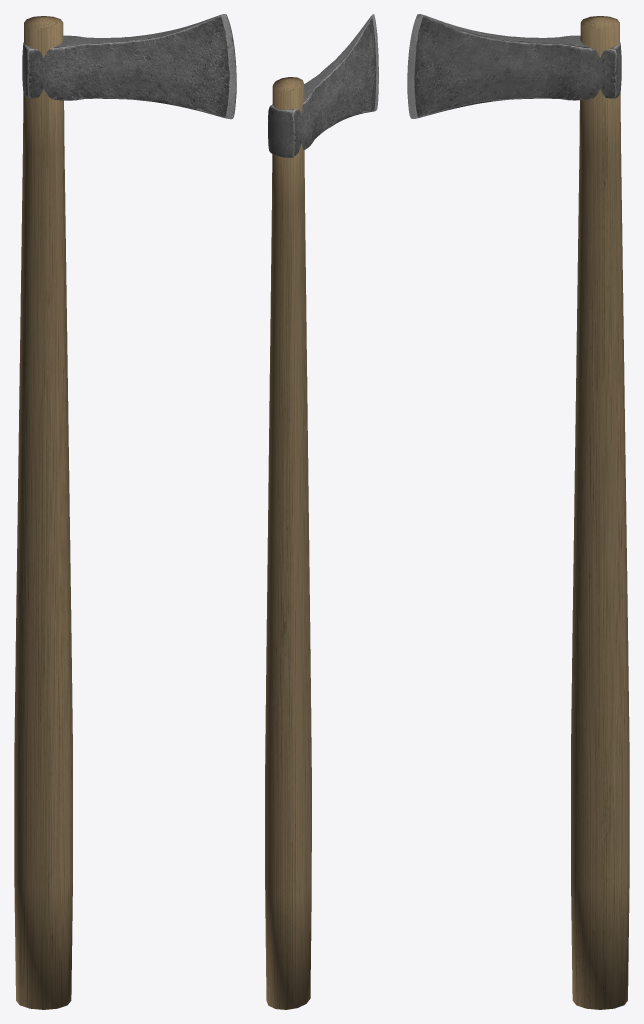
The model's file is axe_peasant_p1_w1.glb.
The picture shows the model from 3 angles, left to right: view 1: azimuth 90°, elevation 25°; view 2: azimuth 150°, elevation 25°; view 3: azimuth 270°, elevation 25°; orthographic projection. The views are drawn at different scales.
Visible parts, largest first — view 1: axe_peasant_p1_w1; view 2: axe_peasant_p1_w1; view 3: axe_peasant_p1_w1.
Boxes of the visible parts, x1=… form: axe_peasant_p1_w1: x1=14, y1=14, x2=236, y2=1009; axe_peasant_p1_w1: x1=265, y1=14, x2=378, y2=1009; axe_peasant_p1_w1: x1=407, y1=14, x2=629, y2=1009.
Bounding box in the file's own units: 0.0329 × 0.7663 × 0.1556.
2 materials, 2 textured.
